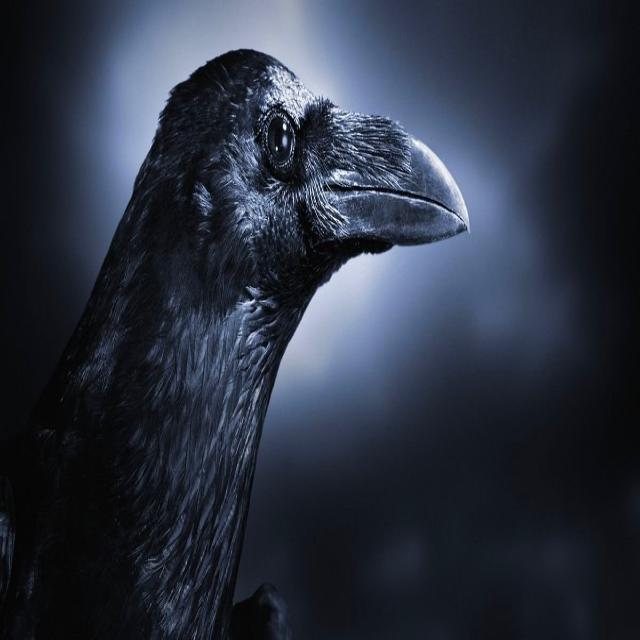crow: (0, 49, 468, 639)
